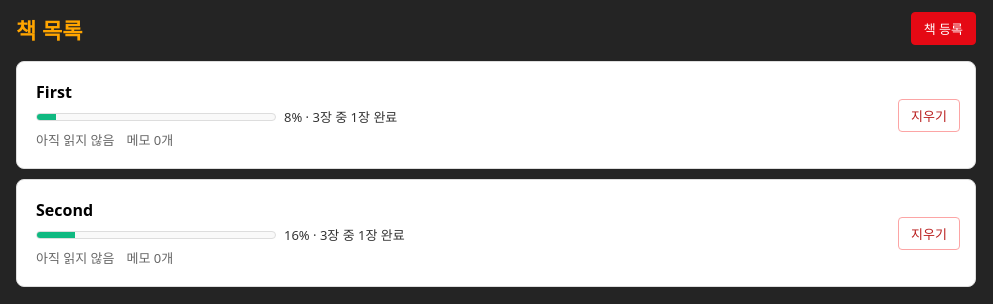
4.5-2 deleting a book › removes only that book completion records
Click the button with aria-label "「First」 지우기": (929, 115) [898,98,960,132]
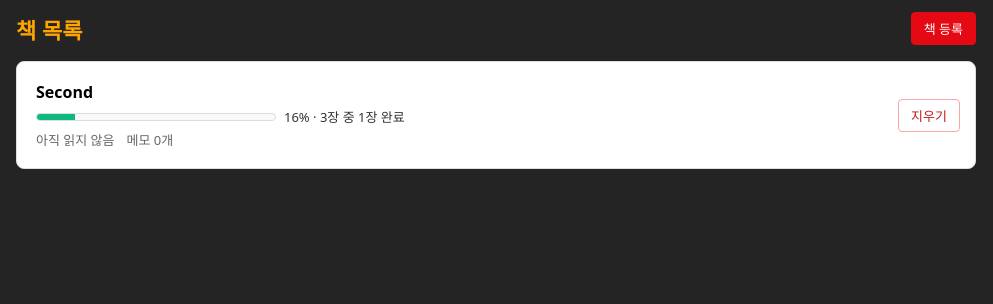
Now the button "First" is gone
